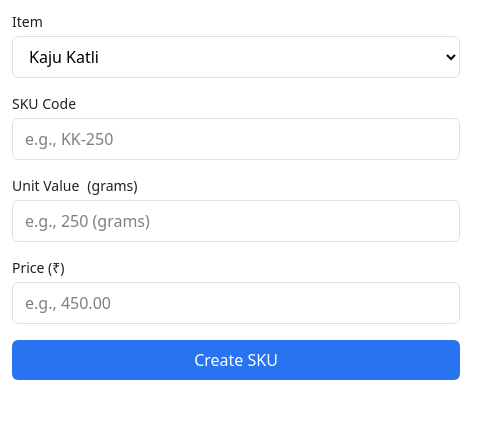
Test: CreateSKUForm › shows validation error when unit value is empty
Type "KK-250" into the field labelled "SKU Code".
click(236, 139); type("KK-250")  # box [12, 118, 460, 160]
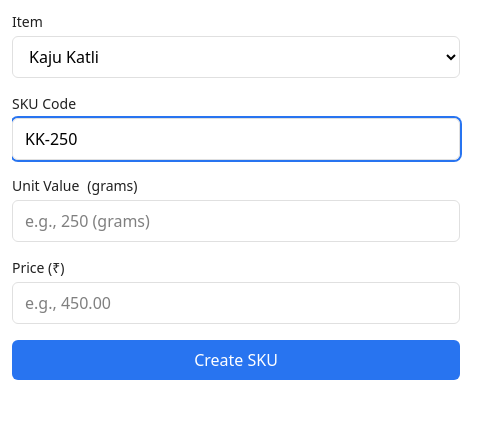
Click the button "Create SKU".
click(236, 360)  # box [12, 340, 460, 380]
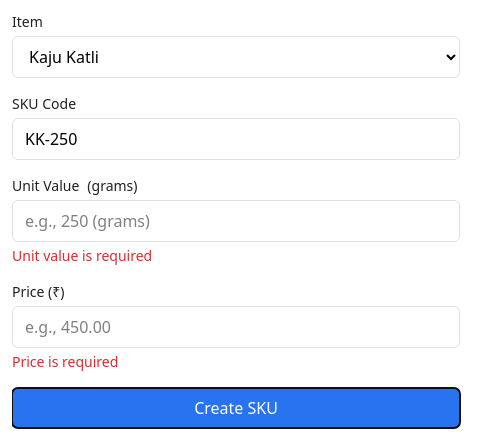
Now the text "Unit value is required" is shown, box [12, 246, 152, 265]
